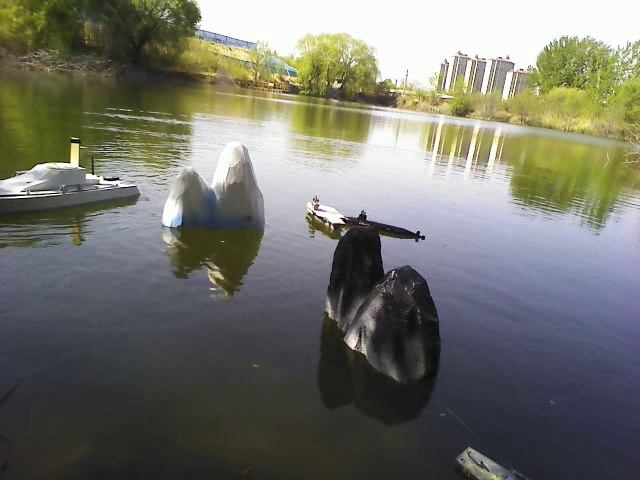aircraft_carrier: (302, 189, 346, 232)
boat: (3, 152, 143, 211)
iceberg: (159, 139, 272, 232)
rock: (326, 226, 446, 388)
submarine: (348, 210, 431, 241)
warship: (453, 441, 539, 476)
